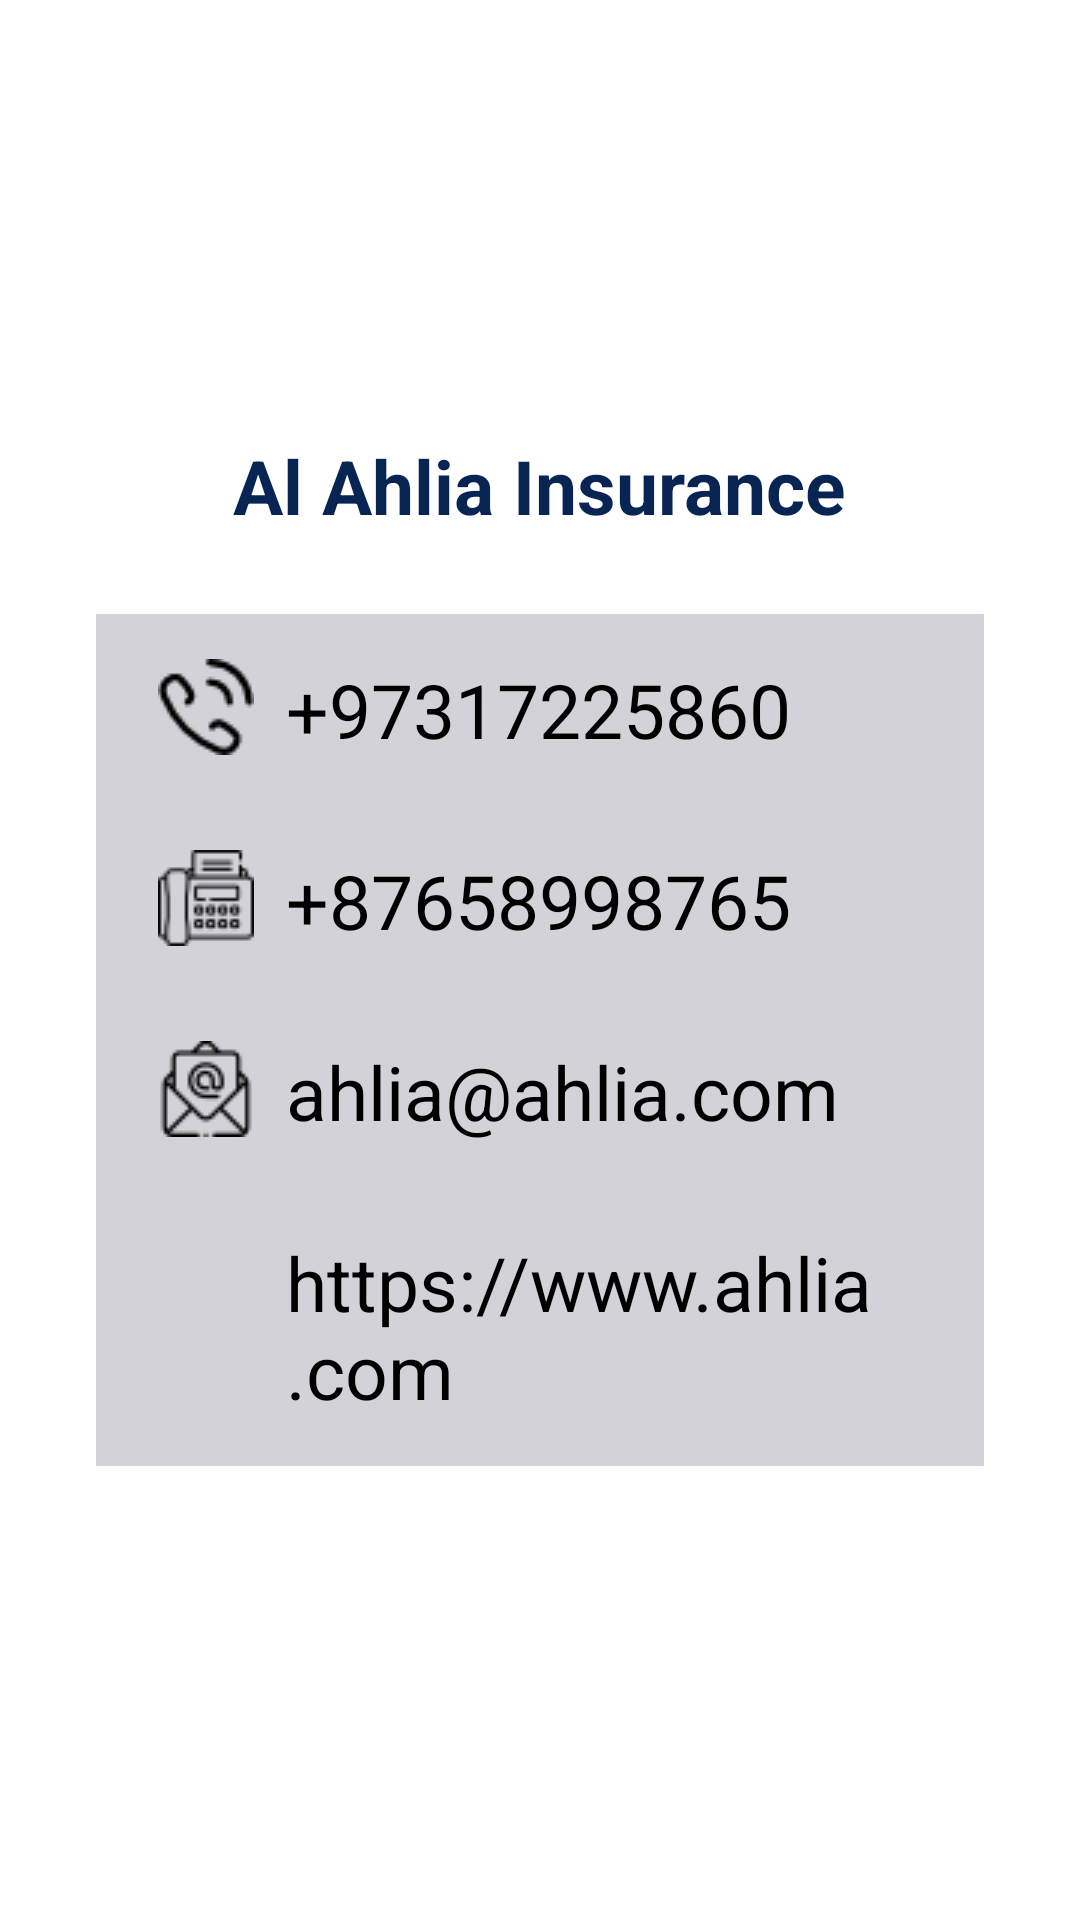

Where icons sit on this 1080px×1920px app screen, as (x1, y1, x2, y2):
fax: (158, 850, 254, 946)
mail: (160, 1041, 252, 1137)
phonecall: (158, 659, 254, 755)
